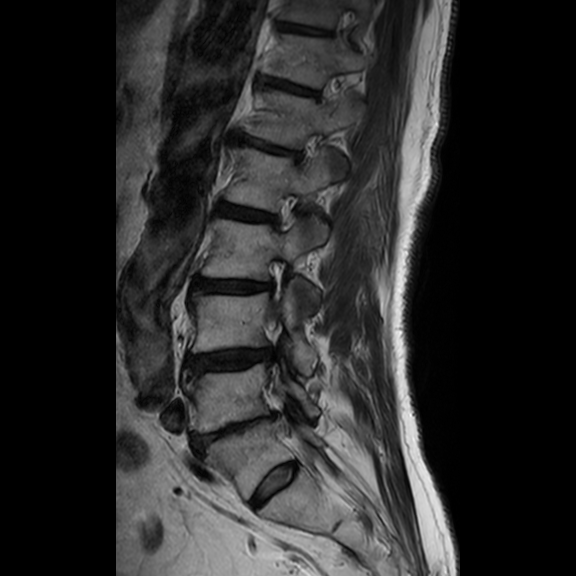LFS0: (263, 184, 307, 242)
